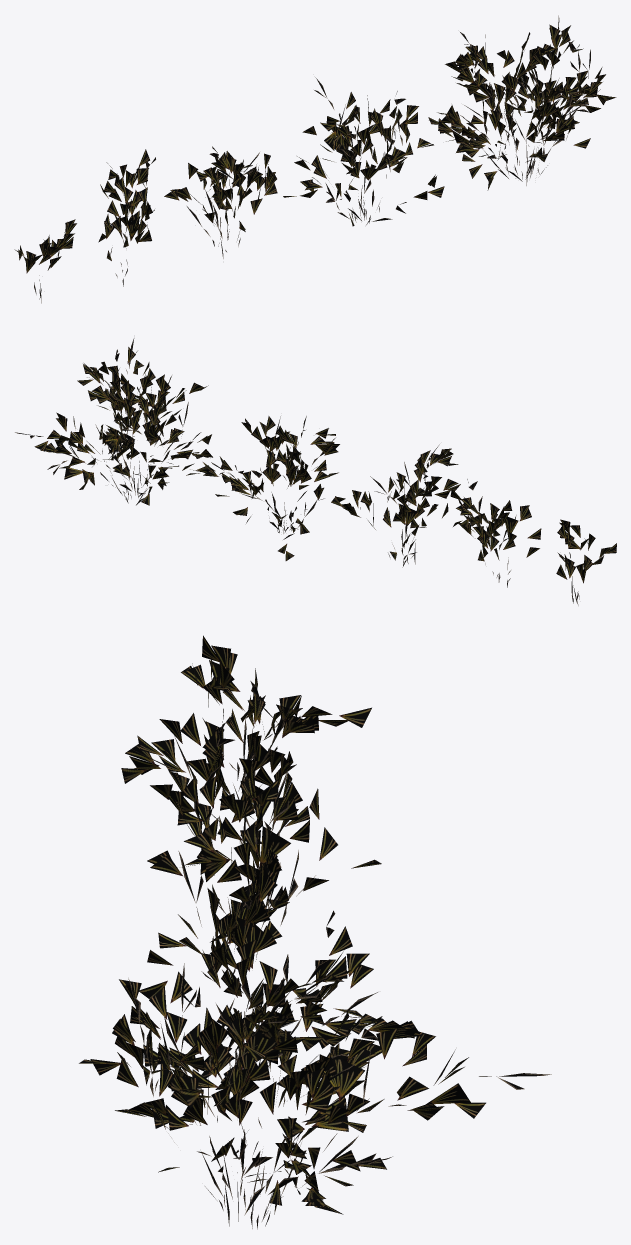
The model's file is wild_rooibos_bush.glb.
3 renders of one model, top to bottom at view 1: azimuth 30°, elevation 25°; view 2: azimuth 150°, elevation 25°; view 3: azimuth 270°, elevation 25°, orthographic. The views are drawn at different scales.
Parts seen in each view (by area): view 1: wild_rooibos_bush_a, wild_rooibos_bush_b, wild_rooibos_bush_c, wild_rooibos_bush_d, wild_rooibos_bush_e; view 2: wild_rooibos_bush_a, wild_rooibos_bush_b, wild_rooibos_bush_c, wild_rooibos_bush_d, wild_rooibos_bush_e; view 3: wild_rooibos_bush_a, wild_rooibos_bush_b, wild_rooibos_bush_c, wild_rooibos_bush_d, wild_rooibos_bush_e.
Boxes of the visible parts, left/top/right/bottom form: wild_rooibos_bush_a: left=428, top=15, right=616, bottom=190; wild_rooibos_bush_b: left=283, top=77, right=444, bottom=226; wild_rooibos_bush_c: left=164, top=146, right=277, bottom=258; wild_rooibos_bush_d: left=98, top=149, right=155, bottom=286; wild_rooibos_bush_e: left=14, top=219, right=76, bottom=303; wild_rooibos_bush_a: left=15, top=338, right=215, bottom=505; wild_rooibos_bush_b: left=203, top=416, right=345, bottom=560; wild_rooibos_bush_c: left=331, top=444, right=460, bottom=567; wild_rooibos_bush_d: left=450, top=479, right=541, bottom=587; wild_rooibos_bush_e: left=556, top=519, right=616, bottom=605; wild_rooibos_bush_a: left=79, top=961, right=551, bottom=1229; wild_rooibos_bush_b: left=130, top=771, right=377, bottom=1089; wild_rooibos_bush_c: left=121, top=713, right=381, bottom=961; wild_rooibos_bush_d: left=159, top=668, right=371, bottom=863; wild_rooibos_bush_e: left=181, top=635, right=265, bottom=791.
Bounding box in the file's own units: 2.26 × 0.5418 × 0.8368.
Materials: 3 (3 with a texture image).
